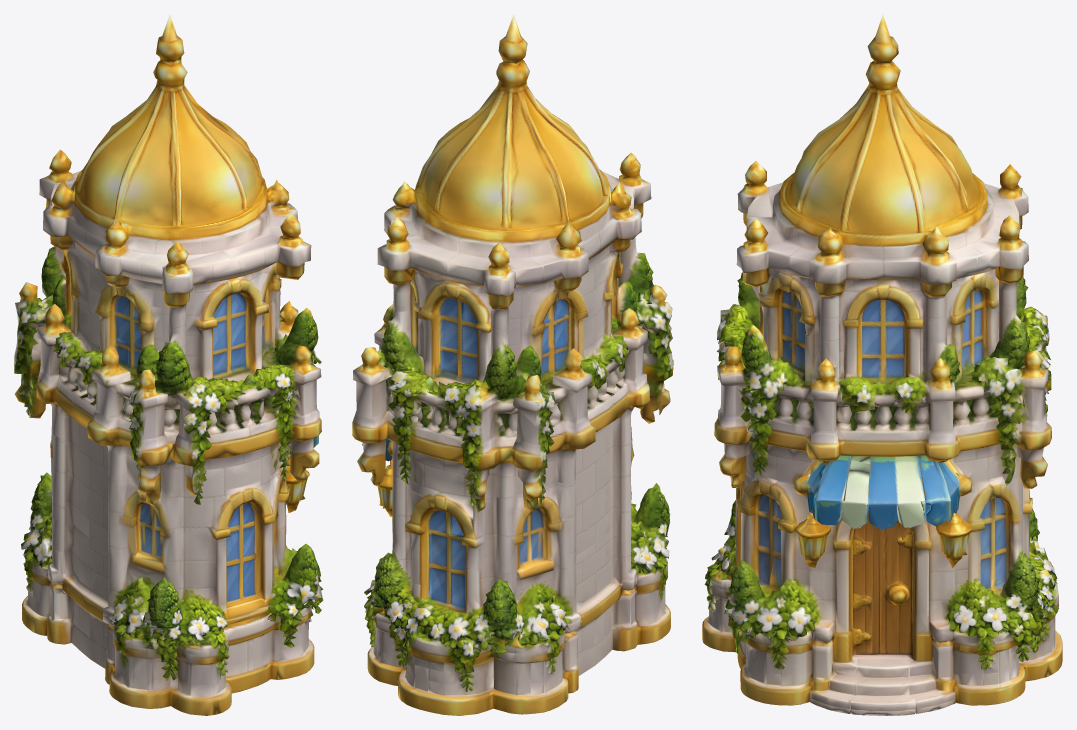
File: HaloDomeHouse_10_HD_src.glb
3 renders of one model, left to right at view 1: azimuth 30°, elevation 25°; view 2: azimuth 150°, elevation 25°; view 3: azimuth 270°, elevation 25°, orthographic. The views are drawn at different scales.
Parts seen in each view (by area): view 1: tripo_node_da00d03f-0e09-4f66-b1f0-d416079ff312; view 2: tripo_node_da00d03f-0e09-4f66-b1f0-d416079ff312; view 3: tripo_node_da00d03f-0e09-4f66-b1f0-d416079ff312.
Boxes of the visible parts, bbox=[...] form: tripo_node_da00d03f-0e09-4f66-b1f0-d416079ff312: bbox=[14, 14, 323, 715]; tripo_node_da00d03f-0e09-4f66-b1f0-d416079ff312: bbox=[352, 14, 673, 715]; tripo_node_da00d03f-0e09-4f66-b1f0-d416079ff312: bbox=[702, 14, 1062, 715].
Size of the model in its own units: 0.379 by 0.9815 by 0.4961.
1 material, 1 textured.
